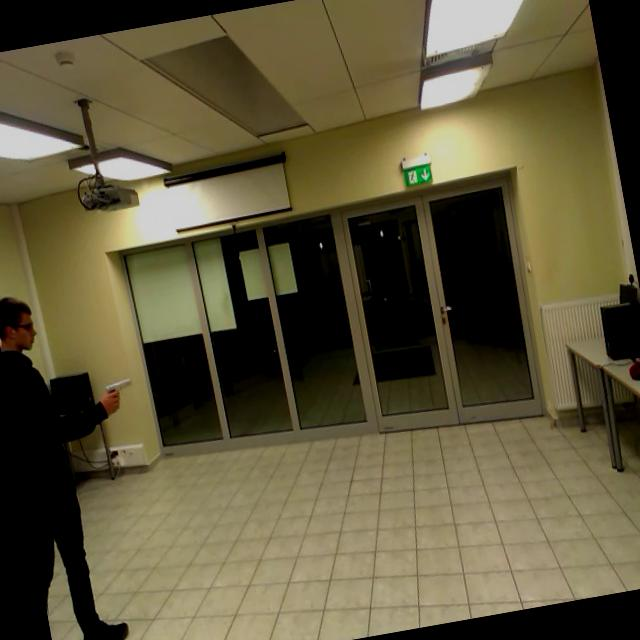handgun: (92, 367, 144, 424)
